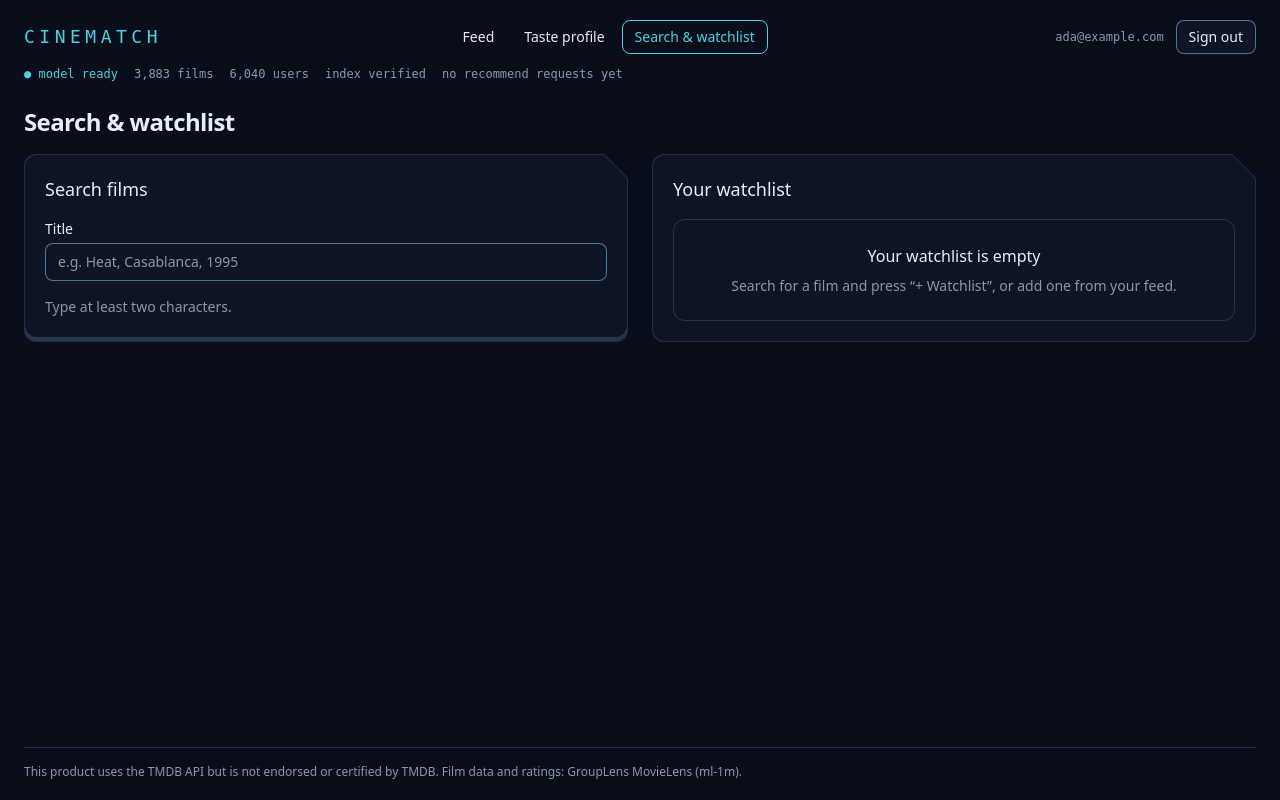
Search & watchlist › searches after a pause and lists real results
Type "toy story" into the search field labelled "Title". click: (326, 262)
box: [45, 243, 607, 281]
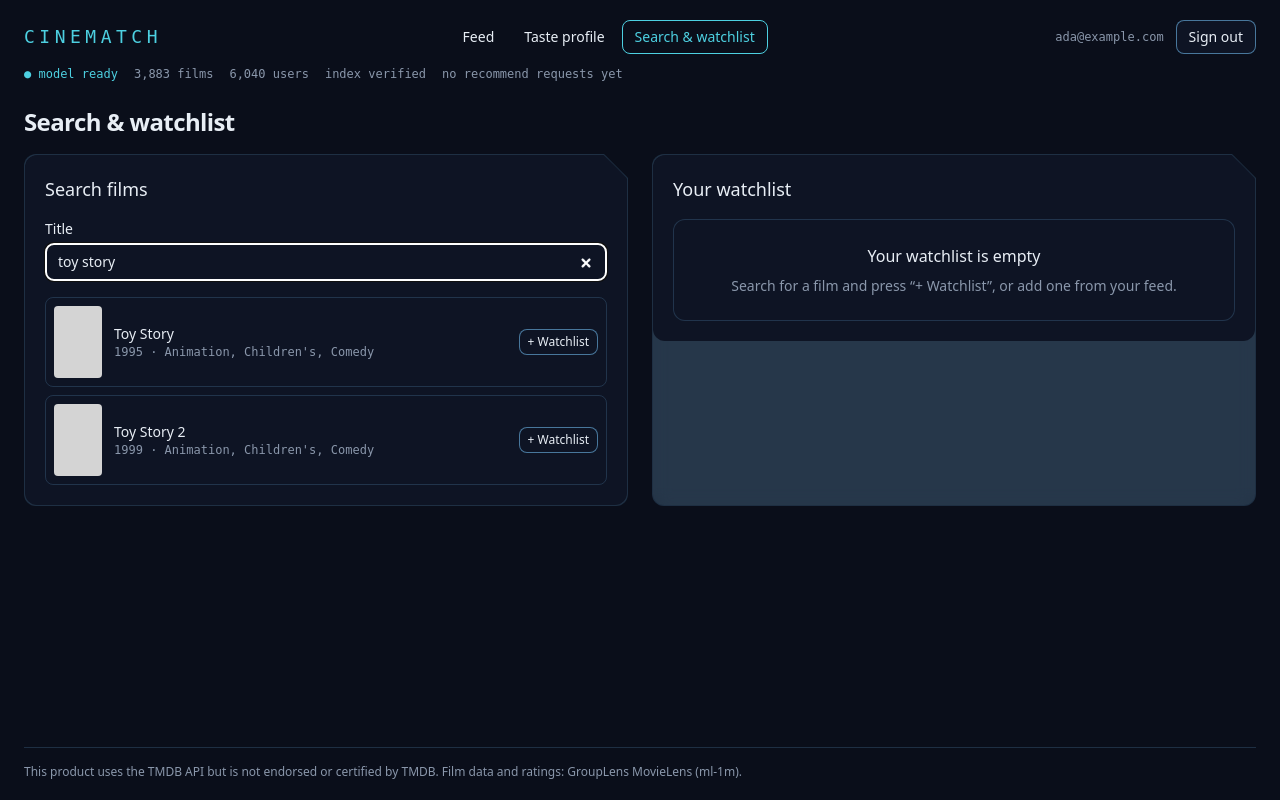
Expected: the number of list items is 2, [45, 297, 607, 387]; [45, 395, 607, 485]
